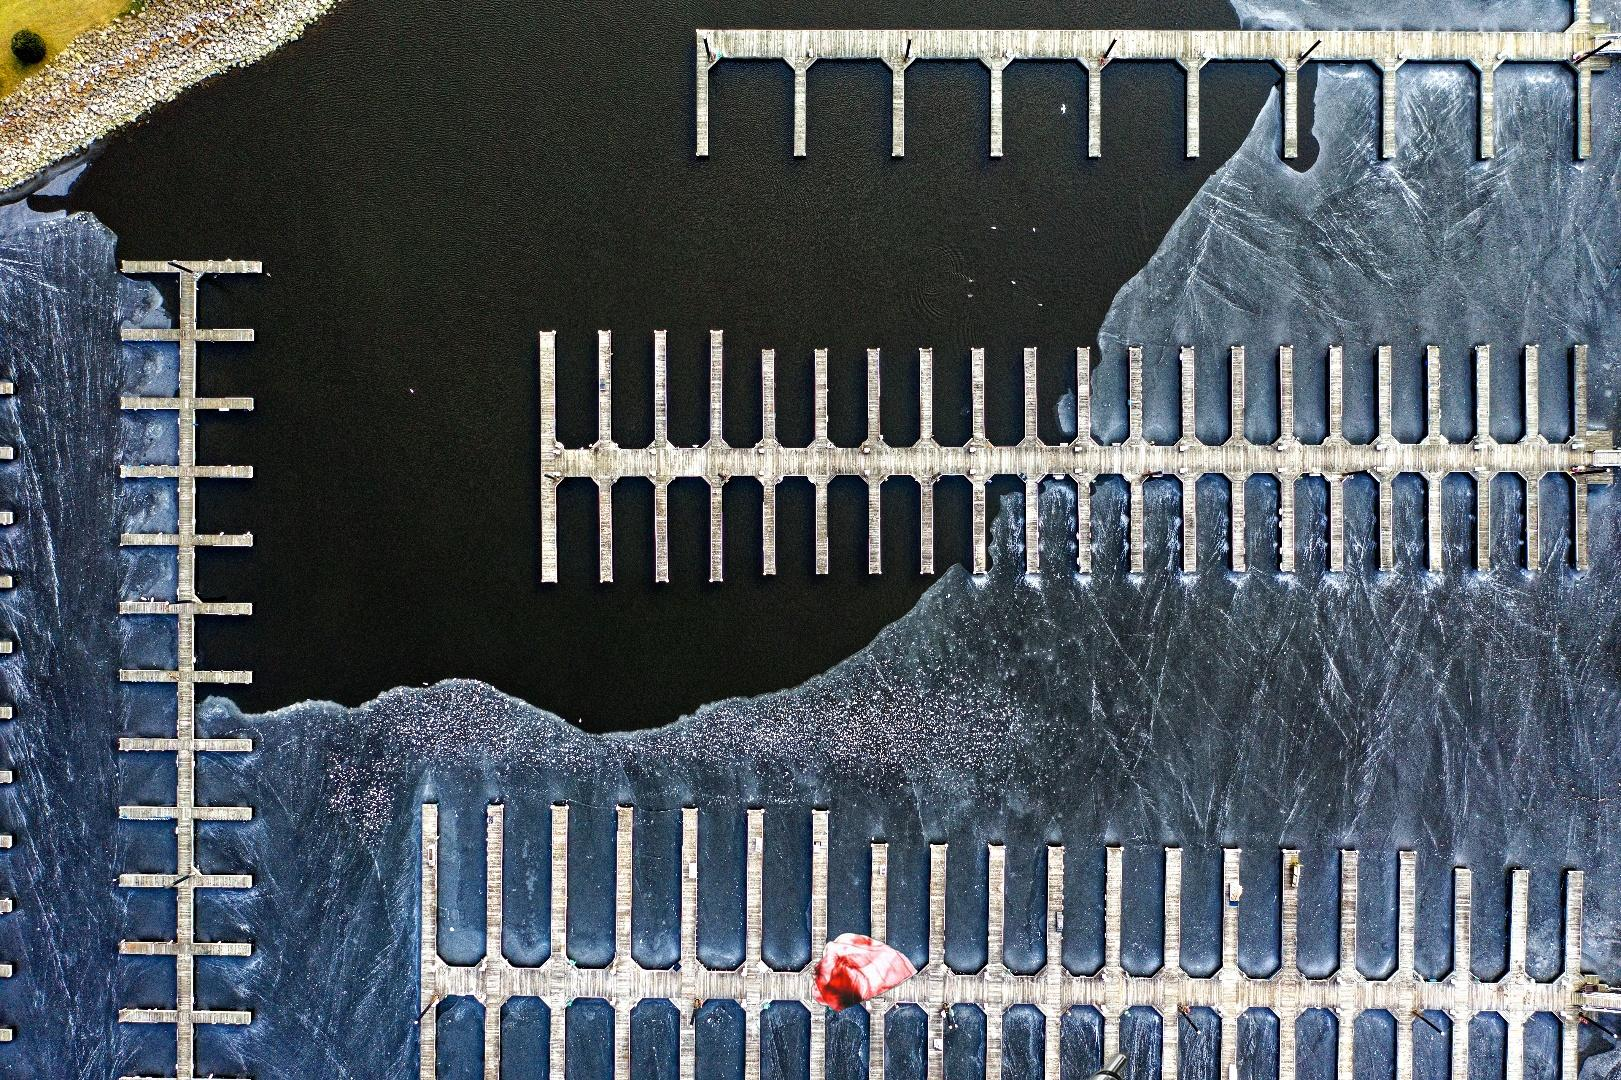penholder: (867, 1041, 1556, 1080)
plastic-bag: (807, 931, 920, 1014)
